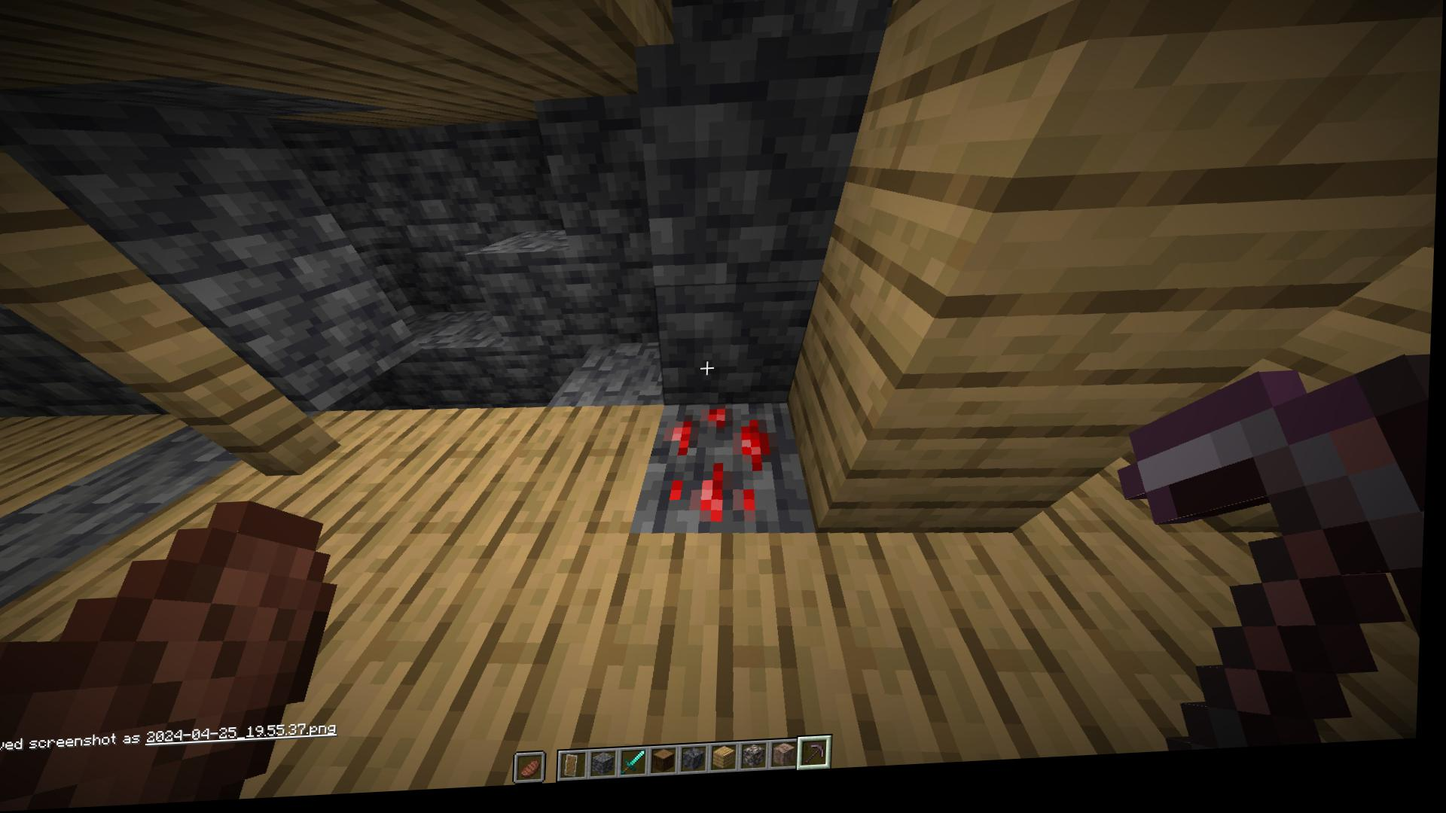redstone ore: (659, 406, 804, 539)
